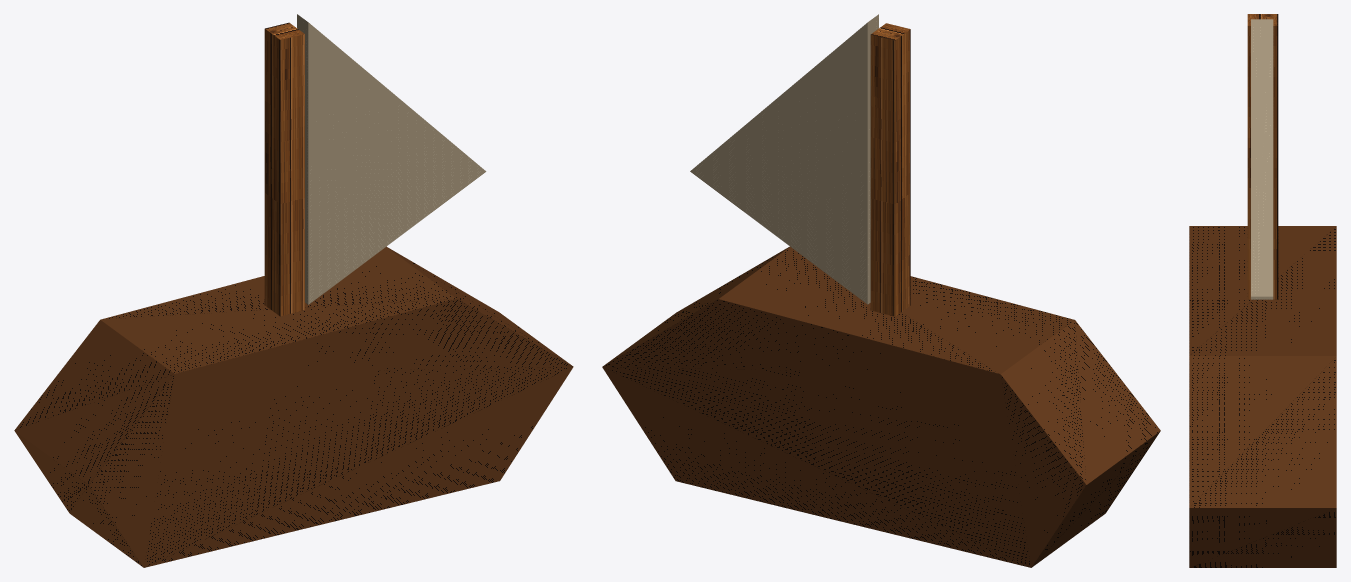
The model's file is Boat.glb.
The picture shows the model from 3 angles, left to right: view 1: azimuth 30°, elevation 25°; view 2: azimuth 150°, elevation 25°; view 3: azimuth 270°, elevation 25°; orthographic projection.
Visible parts, largest first — view 1: Boat; view 2: Boat; view 3: Boat.
Part boxes in pixels (x1,y1,x2,y2): Boat: (14, 14, 573, 567); Boat: (602, 14, 1160, 567); Boat: (1189, 14, 1336, 567).
Bounding box in the file's own units: 0.395 × 0.3698 × 0.105.
2 materials, 2 textured.
